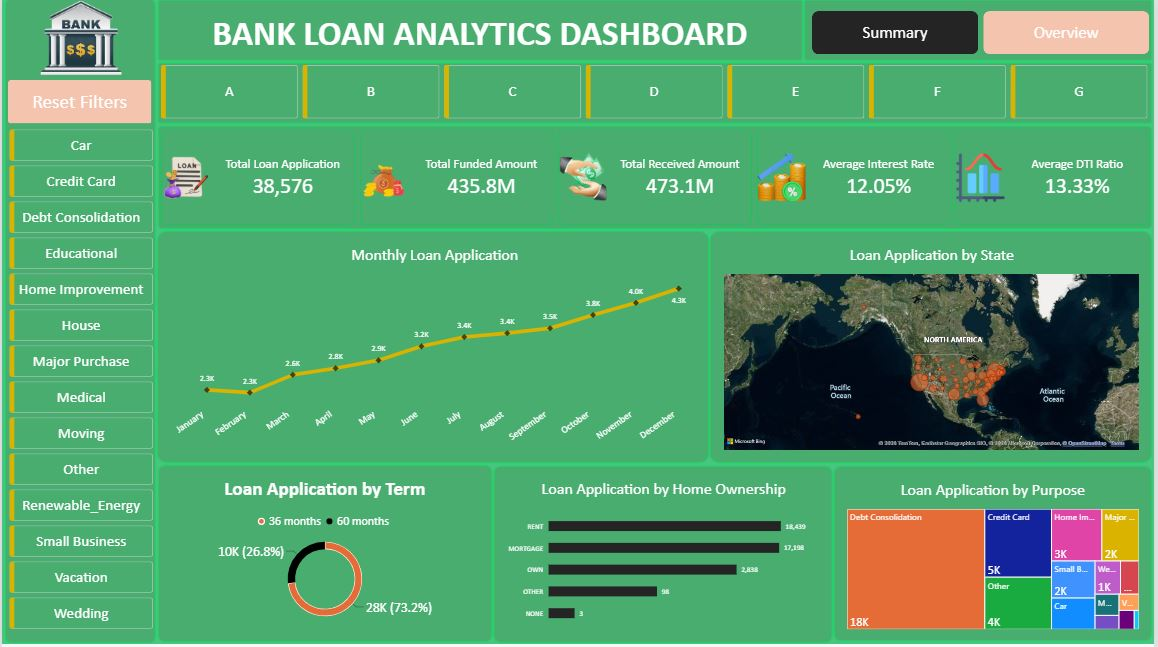

The dashboard page shown, as its layout file describes it:
{"tool":"powerbi","page":{"name":"Overview","canvas":[1920,1080],"ordinal":1},"visuals":[{"type":"cardVisual","fields":{"Data":["financial_loan.Total Loan Application","financial_loan.Total Funded Amount","financial_loan.Total Received Amount","financial_loan.Average Interest Rate","financial_loan.Average DTI Rate"]},"box":[264.9,218,1648.2,159.4],"z":0},{"type":"image","box":[11.7,2.3,239.1,124.3],"z":11000},{"type":"advancedSlicerVisual","fields":{"Values":["financial_loan.PURPOSE"]},"box":[11.7,218,239.1,844],"z":12000},{"type":"advancedSlicerVisual","fields":{"Values":["financial_loan.GRADE"]},"box":[264.9,110.2,1648.2,89.1],"z":13000},{"type":"actionButton","box":[9.4,136,239.1,72.7],"z":14000},{"type":"textbox","box":[269.6,18.8,1052.7,107.8],"z":15000},{"type":"pageNavigator","box":[1350.4,18.8,562.7,72.7],"z":15001},{"type":"lineChart","title":"Monthly Loan Application","fields":{"Category":["financial_loan.ISSUE_DATE.Variation.Date Hierarchy.Month"],"Y":["financial_loan.Total Loan Application"]},"box":[269.6,393.9,902.6,372.8],"z":15002},{"type":"donutChart","title":"Loan Application by Term","fields":{"Category":["financial_loan.TERM"],"Y":["financial_loan.Total Loan Application"]},"box":[264.9,783.1,546.3,279],"z":15003},{"type":"clusteredBarChart","title":"Loan Application by Home Ownership","fields":{"Category":["financial_loan.HOME_OWNERSHIP"],"Y":["financial_loan.Total Loan Application"]},"box":[825.3,785.4,555.6,279],"z":15004},{"type":"treemap","title":"Loan Application by Purpose","fields":{"Group":["financial_loan.PURPOSE"],"Values":["financial_loan.Total Loan Application"]},"box":[1392.6,787.7,518.1,279],"z":15005},{"type":"map","title":"Loan Application by State","fields":{"Category":["financial_loan.ADDRESS_STATE"],"Size":["financial_loan.Total Loan Application"]},"box":[1188.7,393.9,724.4,372.8],"z":15006}]}

Visuals, with their boxes in screenshot pixels (x1, y1, x2, y2), scaled from the page's 1920x1080 canvas onto the 1158x647 screenshot:
cardVisual - financial_loan.Total Loan Application x financial_loan.Total Funded Amount: (160, 131, 1154, 226)
image: (7, 1, 151, 76)
advancedSlicerVisual - financial_loan.PURPOSE: (7, 131, 151, 636)
advancedSlicerVisual - financial_loan.GRADE: (160, 66, 1154, 119)
actionButton: (6, 81, 150, 125)
textbox: (163, 11, 798, 76)
pageNavigator: (814, 11, 1154, 55)
"Monthly Loan Application" lineChart: (163, 236, 707, 459)
"Loan Application by Term" donutChart: (160, 469, 489, 636)
"Loan Application by Home Ownership" clusteredBarChart: (498, 471, 833, 638)
"Loan Application by Purpose" treemap: (840, 472, 1152, 639)
"Loan Application by State" map: (717, 236, 1154, 459)
